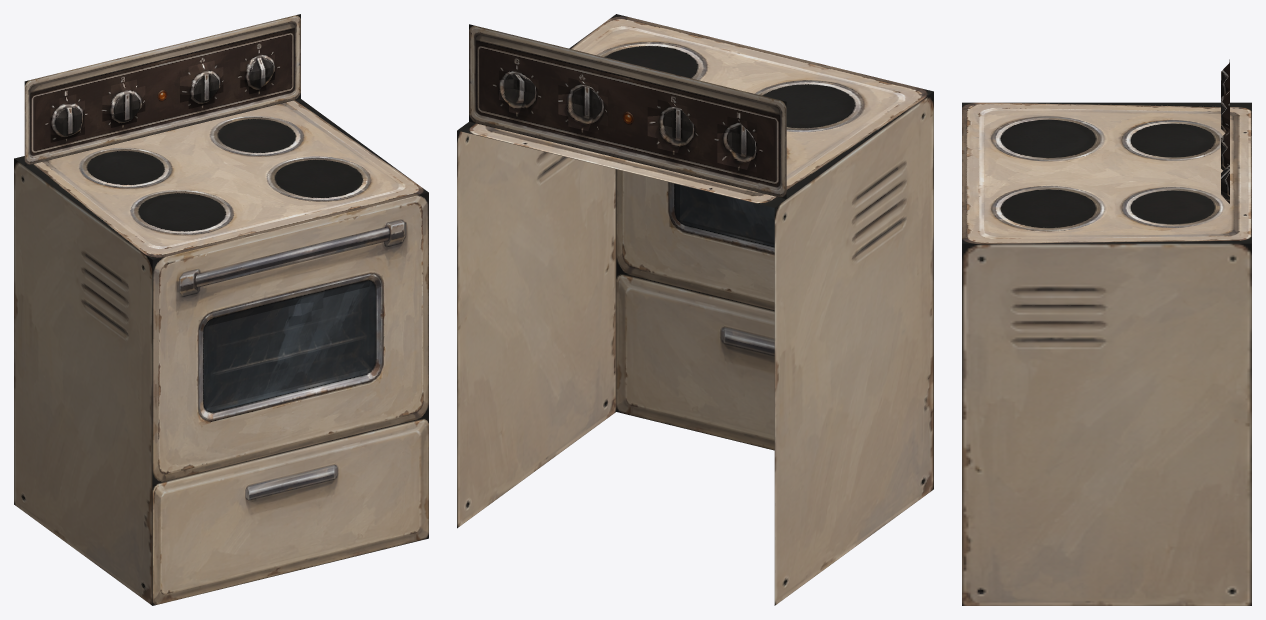
Rendered from bench_b_oven.glb.
The picture shows the model from 3 angles, left to right: view 1: azimuth 30°, elevation 25°; view 2: azimuth 150°, elevation 25°; view 3: azimuth 270°, elevation 25°; orthographic projection. The views are drawn at different scales.
Parts seen in each view (by area): view 1: bench_b_oven_front_door, bench_b_oven_left, bench_b_oven_cooktop, bench_b_oven_front_drawer, bench_b_oven_backguard; view 2: bench_b_oven_left, bench_b_oven_right, bench_b_oven_backguard, bench_b_oven_cooktop, bench_b_oven_front_drawer, bench_b_oven_front_door; view 3: bench_b_oven_right, bench_b_oven_cooktop, bench_b_oven_backguard.
Boxes of the visible parts, x1=… form: bench_b_oven_front_door: x1=152, y1=192, x2=428, y2=484; bench_b_oven_left: x1=14, y1=158, x2=152, y2=605; bench_b_oven_cooktop: x1=14, y1=99, x2=428, y2=259; bench_b_oven_front_drawer: x1=152, y1=417, x2=428, y2=605; bench_b_oven_backguard: x1=24, y1=14, x2=300, y2=165; bench_b_oven_left: x1=774, y1=91, x2=933, y2=605; bench_b_oven_right: x1=457, y1=130, x2=616, y2=528; bench_b_oven_backguard: x1=469, y1=24, x2=786, y2=198; bench_b_oven_cooktop: x1=457, y1=14, x2=933, y2=207; bench_b_oven_front_drawer: x1=616, y1=272, x2=774, y2=450; bench_b_oven_front_door: x1=616, y1=169, x2=774, y2=310; bench_b_oven_right: x1=962, y1=243, x2=1251, y2=605; bench_b_oven_cooktop: x1=962, y1=102, x2=1251, y2=243; bench_b_oven_backguard: x1=1221, y1=59, x2=1229, y2=203.
Bounding box in the file's own units: 0.76 × 1.13 × 0.66.
1 material, 1 textured.
